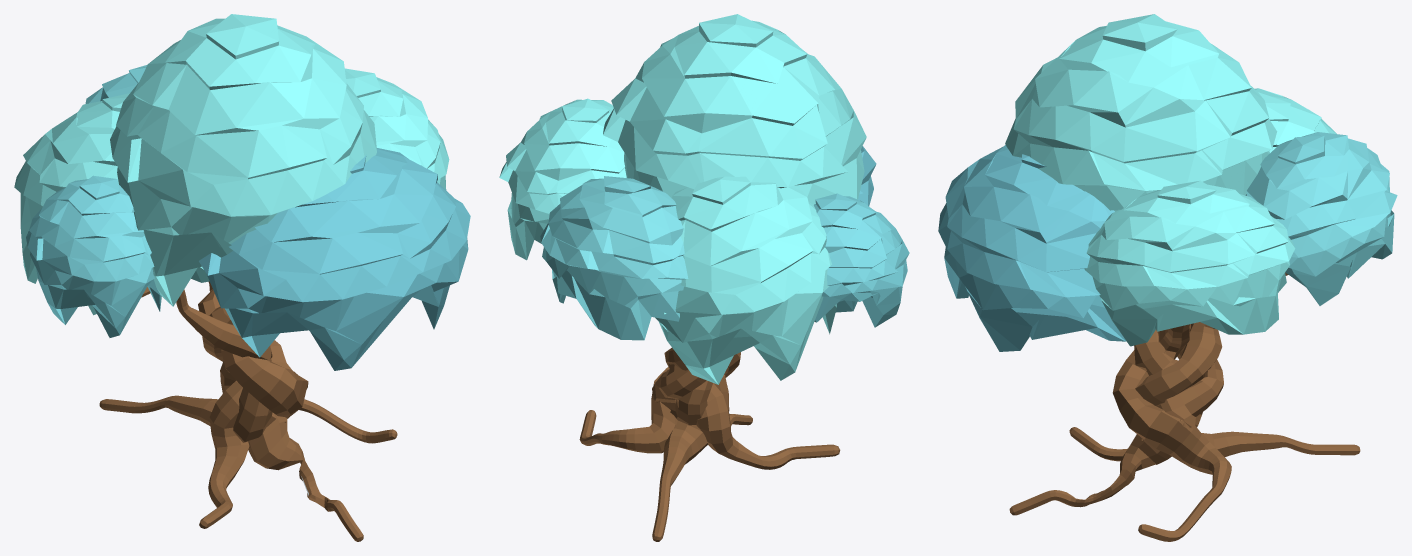
The model's file is _ig tree.fbx.
3 views of the same model, side by side, from view 1: azimuth 30°, elevation 25°; view 2: azimuth 150°, elevation 25°; view 3: azimuth 270°, elevation 25° (orthographic). The views are drawn at different scales.
Parts seen in each view (by area): view 1: Cube.006; view 2: Cube.006; view 3: Cube.006.
Part boxes in pixels (<box>): Cube.006: <box>14,14,470,541</box>; Cube.006: <box>499,14,909,541</box>; Cube.006: <box>938,14,1397,541</box>.
Size of the model in its own units: 3166 by 3639 by 3231.
1 material, 1 textured.
